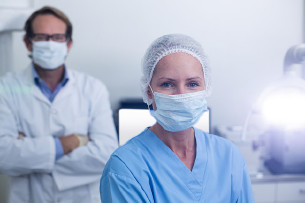face_mask: (151, 64, 204, 131), (30, 18, 66, 69)
